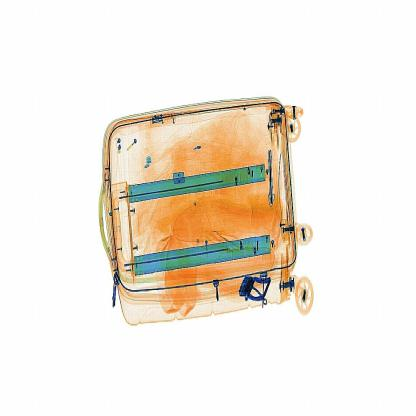knife: (267, 146, 276, 209)
